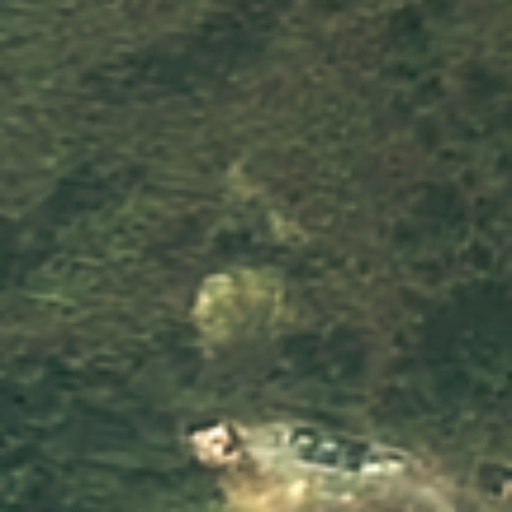landslide: (191, 412, 296, 505), (177, 268, 283, 339)
